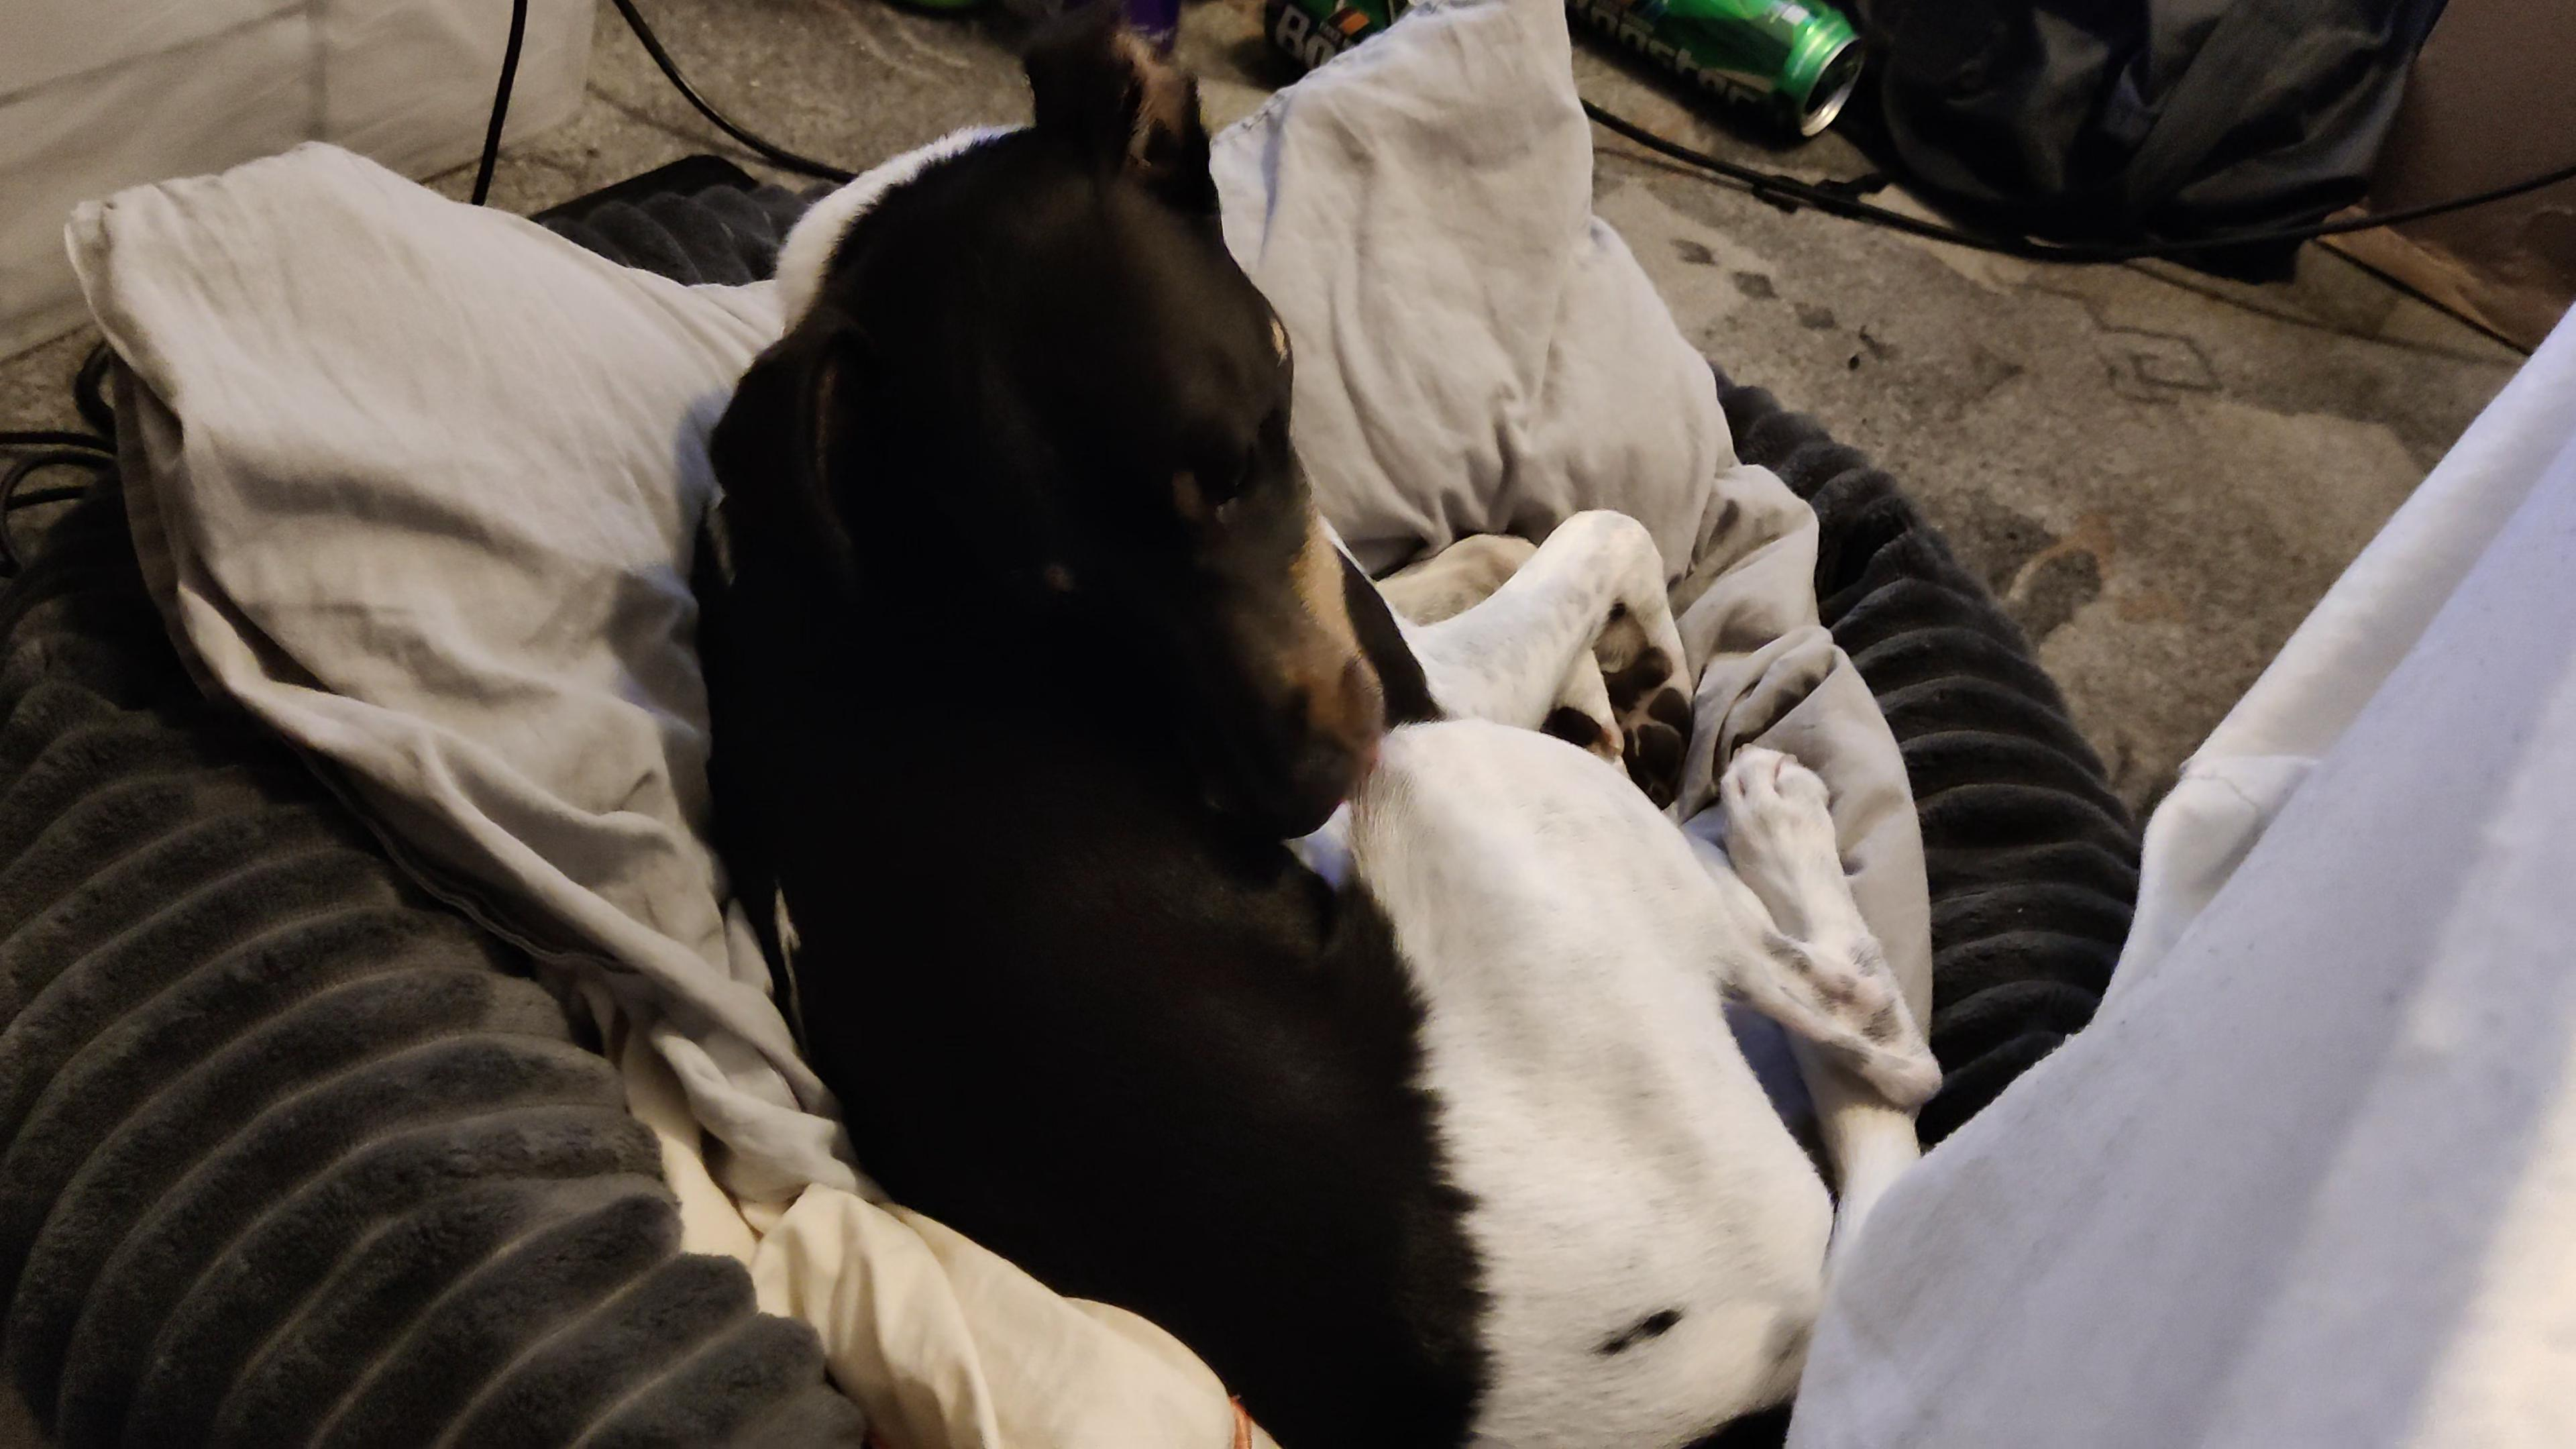Dog: (679, 0, 1948, 1449)
